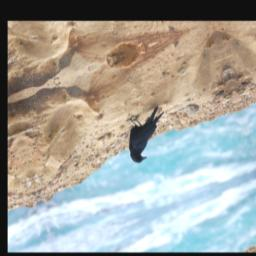Crow: (118, 103, 176, 168)
